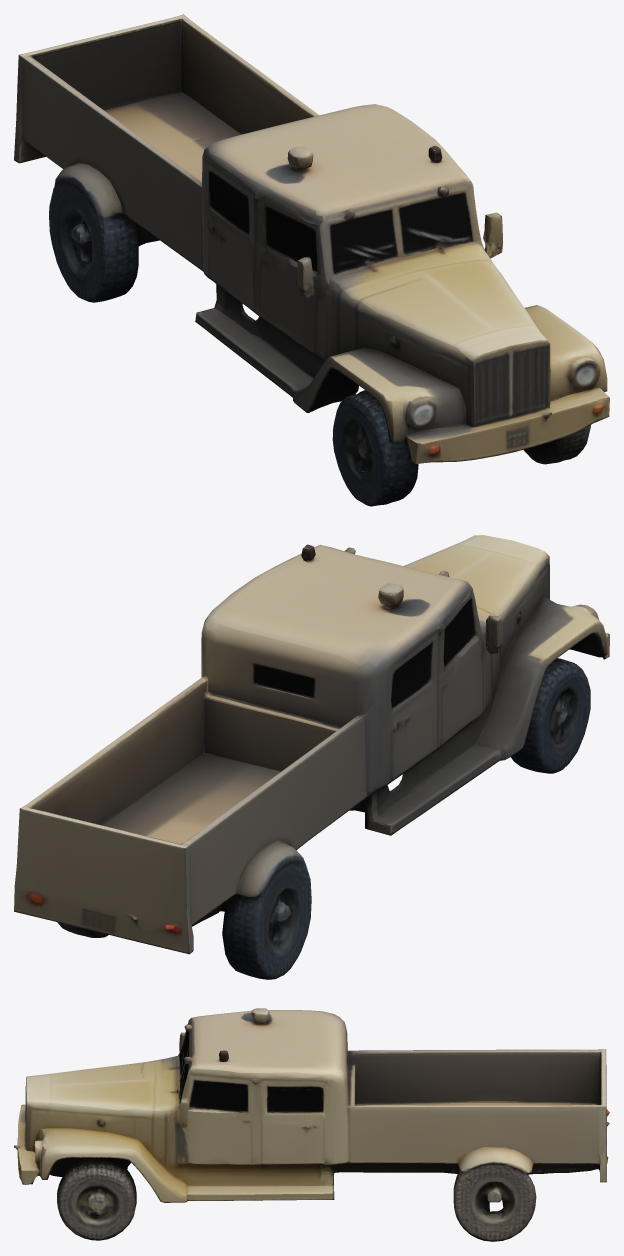
The model's file is vehicle.glb.
3 views of the same model, one above another, from view 1: azimuth 30°, elevation 25°; view 2: azimuth 150°, elevation 25°; view 3: azimuth 270°, elevation 25° (orthographic). The views are drawn at different scales.
Parts seen in each view (by area): view 1: geometry_0; view 2: geometry_0; view 3: geometry_0.
Boxes of the visible parts, x1,y1,x2,y2 form: geometry_0: (14,14,609,506); geometry_0: (14,535,609,979); geometry_0: (14,1008,609,1241).
Bounding box in the file's own units: 0.2942 × 0.3347 × 0.992.
Materials: 1 (1 with a texture image).
